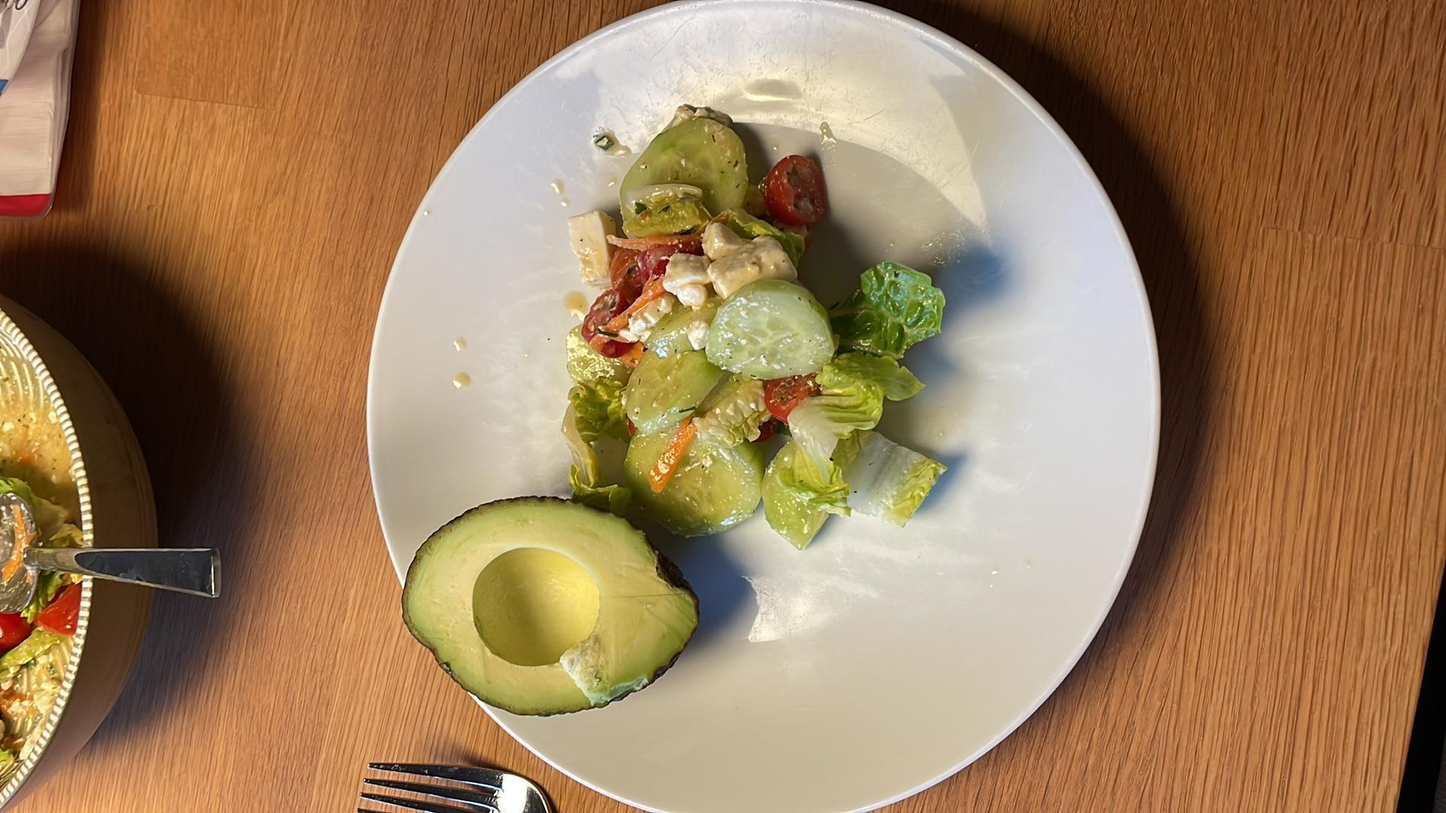avocado: (397, 491, 705, 717)
carrot: (651, 417, 700, 484), (2, 504, 26, 583)
cucumber: (618, 412, 766, 536), (624, 297, 724, 434), (701, 274, 831, 377), (615, 120, 757, 212)
lettuce: (831, 257, 953, 431), (769, 415, 850, 553), (556, 364, 635, 496), (834, 441, 950, 528)
tomato: (769, 152, 828, 228), (611, 239, 702, 279), (574, 287, 636, 342), (35, 585, 93, 642), (0, 604, 41, 648), (767, 373, 812, 413)
